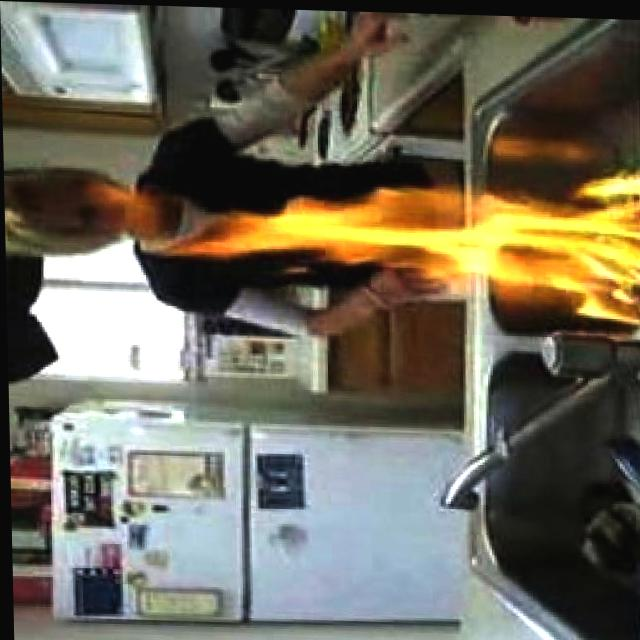Fire: (183, 174, 640, 310)
